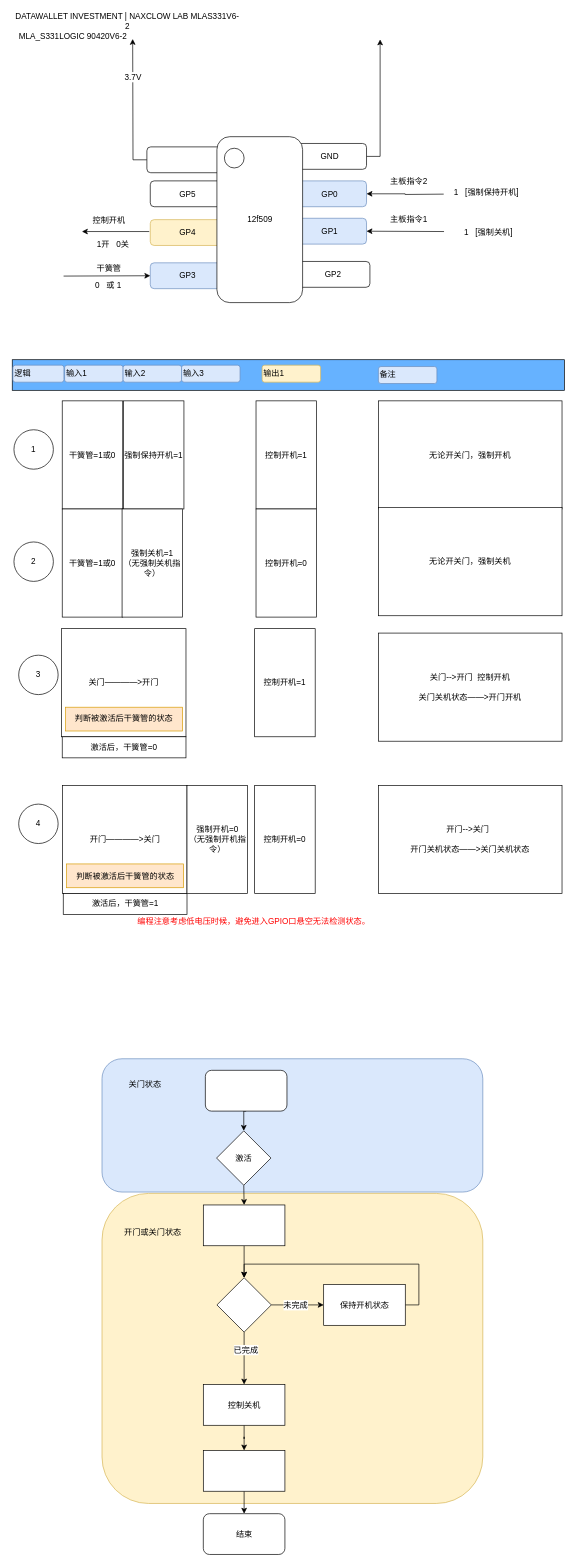
Image size: 576x1567. Some labels were removed from this diagram. Each missing label, with the centre of its shape:
VCC: (183,159)
发送数据: (243,1304)
开始: (246,1090)
开门，电池合法强制开机，电池非法强制关机: (244,1225)
进入休眠: (244,1470)
